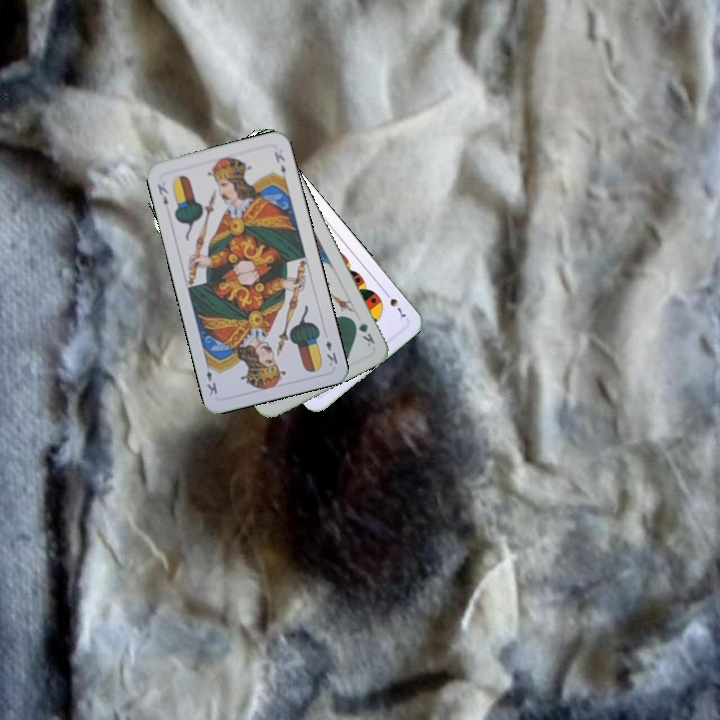EK: (321, 336, 340, 369), (153, 180, 170, 208)
GK: (348, 314, 378, 349)
S7: (380, 287, 408, 320)
